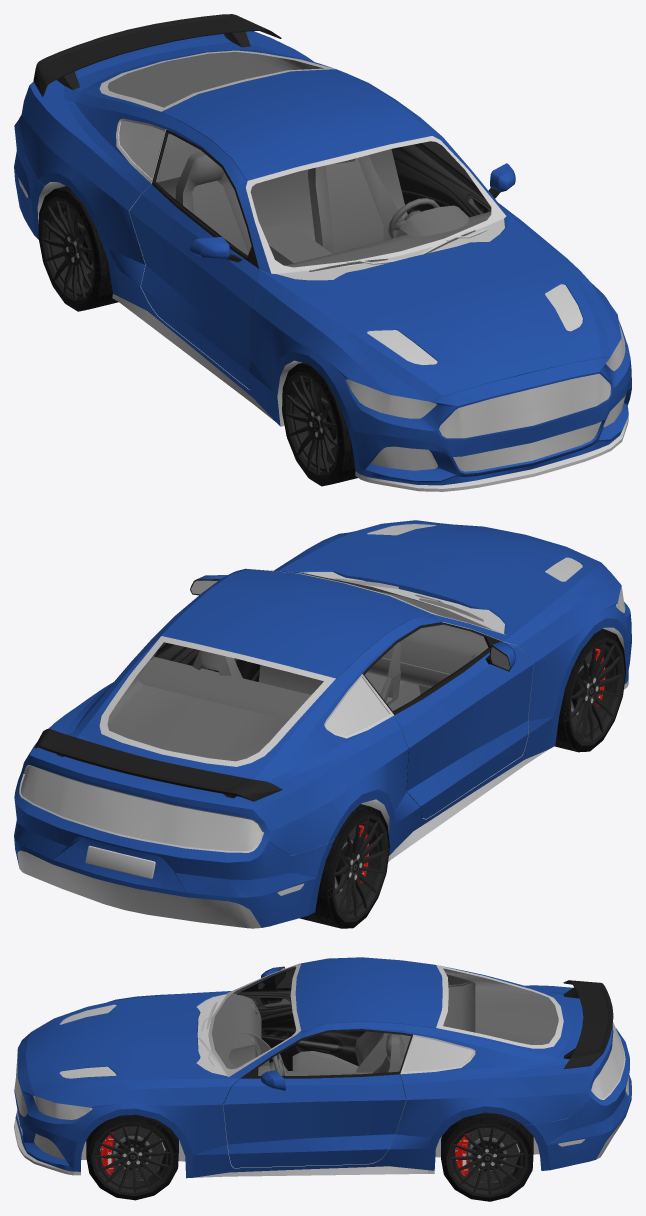
The model's file is Car 11.FBX.
The picture shows the model from 3 angles, top to bottom: view 1: azimuth 30°, elevation 25°; view 2: azimuth 150°, elevation 25°; view 3: azimuth 270°, elevation 25°; orthographic projection. The views are drawn at different scales.
Visible parts, largest first — view 1: Body, Door_R, Wheel_BR, Wheel_FR, Wing, Door_L; view 2: Body, Door_R, Wheel_BR, Wheel_FR, Wing, Door_L; view 3: Body, Door_L, Wheel_BL, Wheel_FL, Door_R, Wing, brake_BL, brake_FL.
Boxes of the visible parts, left/top/right/bottom form: Body: left=14, top=31, right=631, bottom=491; Door_R: left=129, top=130, right=258, bottom=389; Wheel_BR: left=38, top=186, right=118, bottom=311; Wheel_FR: left=282, top=362, right=357, bottom=486; Wing: left=33, top=14, right=281, bottom=96; Door_L: left=391, top=141, right=515, bottom=217; Body: left=14, top=520, right=631, bottom=928; Door_R: left=362, top=622, right=533, bottom=818; Wheel_BR: left=299, top=804, right=389, bottom=928; Wheel_FR: left=555, top=629, right=625, bottom=752; Wing: left=34, top=728, right=282, bottom=801; Door_L: left=155, top=575, right=260, bottom=681; Body: left=14, top=957, right=631, bottom=1178; Door_L: left=223, top=1029, right=412, bottom=1167; Wheel_BL: left=441, top=1112, right=533, bottom=1201; Wheel_FL: left=86, top=1114, right=178, bottom=1200; Door_R: left=237, top=966, right=365, bottom=1070; Wing: left=563, top=980, right=613, bottom=1068; brake_BL: left=455, top=1127, right=519, bottom=1182; brake_FL: left=100, top=1126, right=164, bottom=1180.
Bounding box in the file's own units: 156 × 103 × 351.
